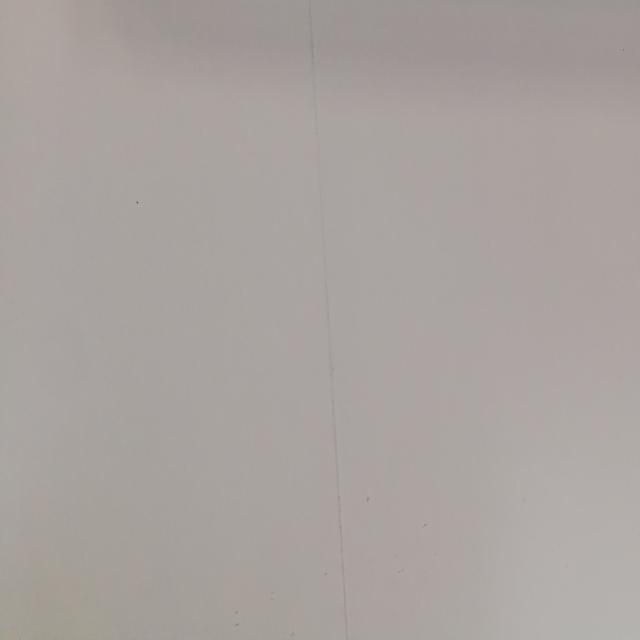fluorescent tube: (6, 0, 640, 68)
